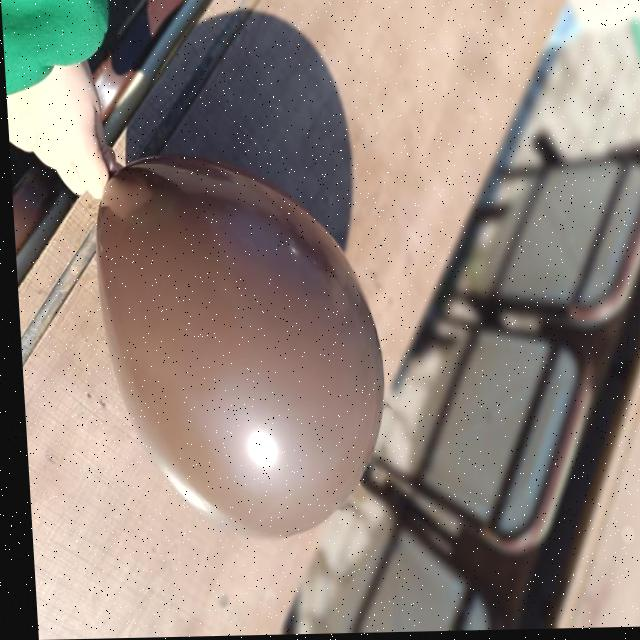balloon: (95, 151, 391, 550)
